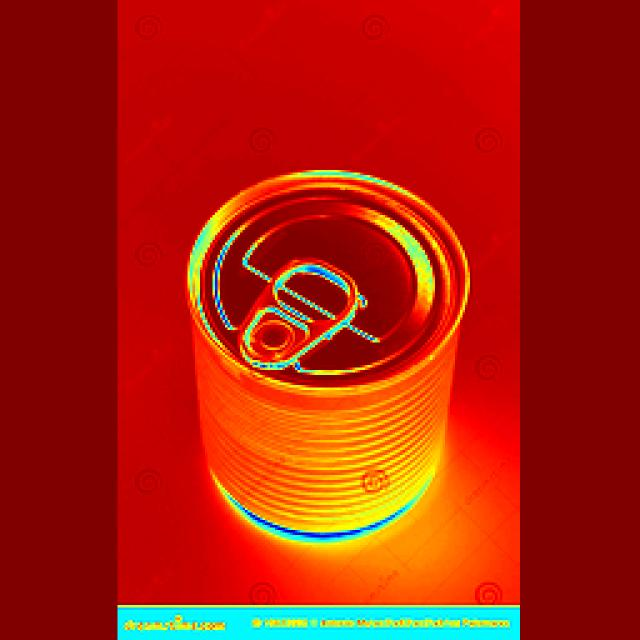Aluminium Food Cans: (188, 169, 451, 539)
